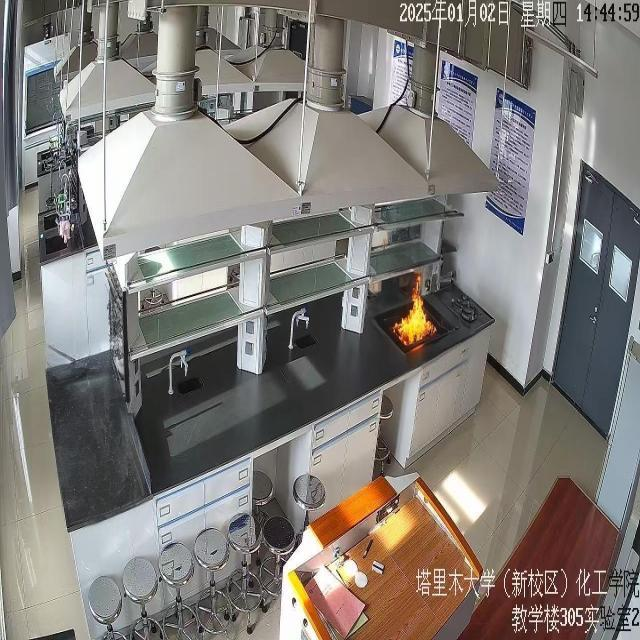smoke: (394, 274, 434, 346)
